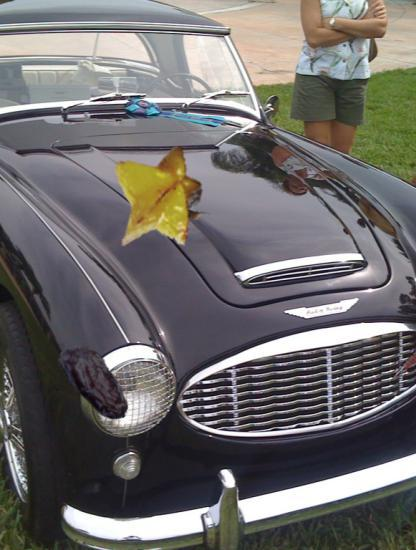Carambula: (105, 142, 218, 255)
Dates: (51, 337, 141, 427)
